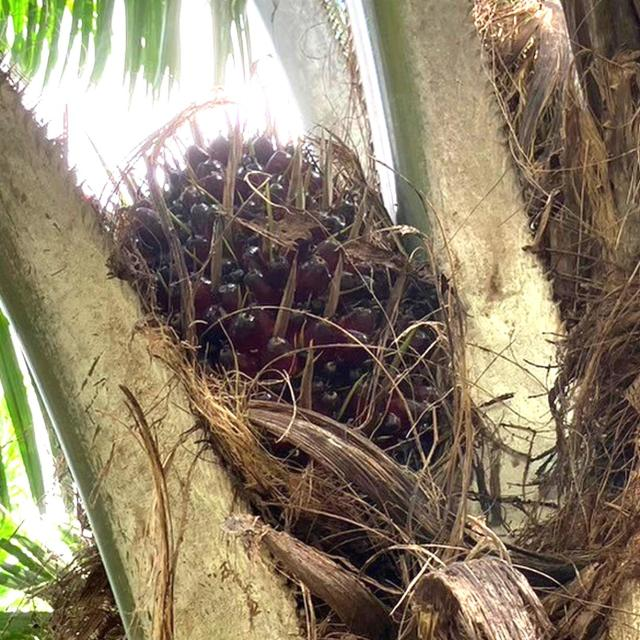ripe: (84, 98, 481, 583)
